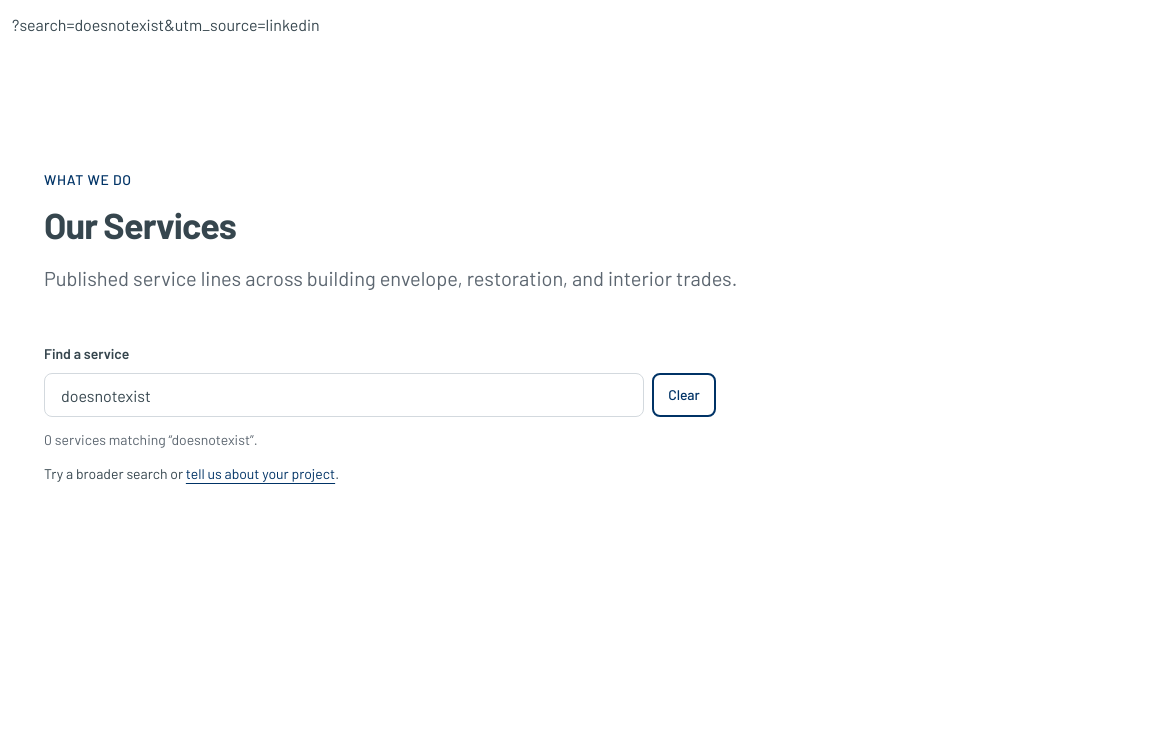
Test: provides an empty state and clears the filter without dropping attribution
expect the message shows "0 services": met, box [44, 431, 258, 448]
Step 1. Click the button "Clear" → (684, 395), box [652, 373, 716, 417]
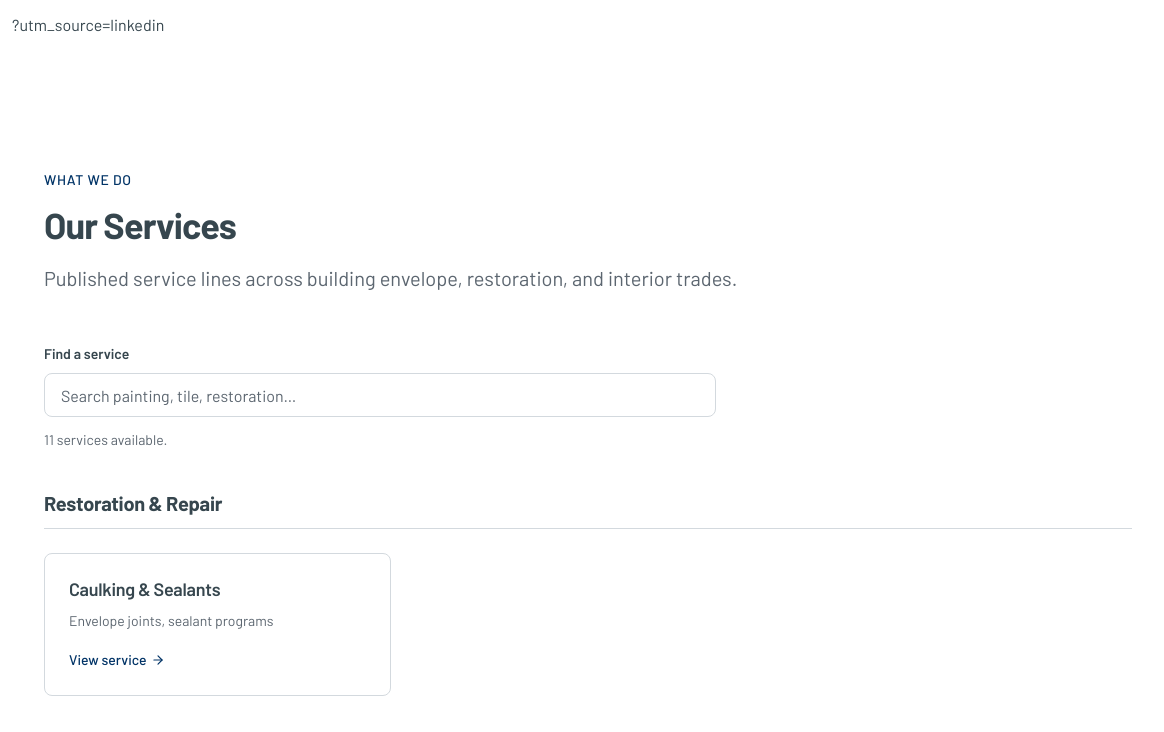
expect the text with test id "location" reads "?utm_source=linkedin": met, box [12, 15, 164, 34]
